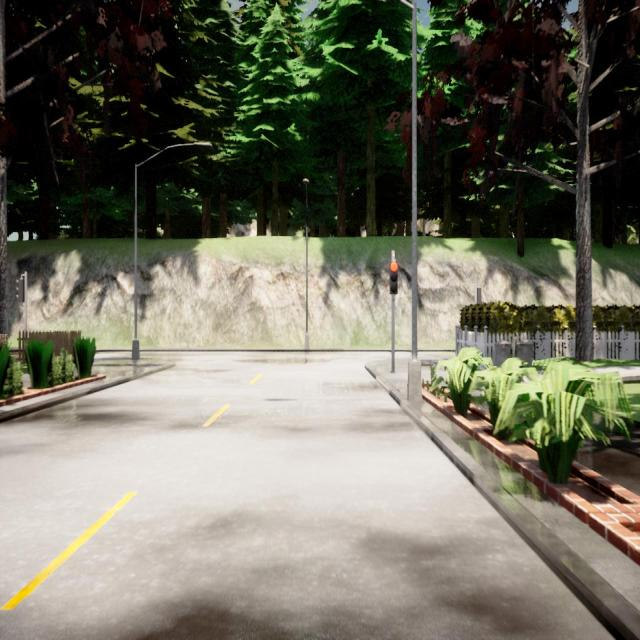traffic_light: (389, 262, 399, 294), (15, 278, 24, 302)
